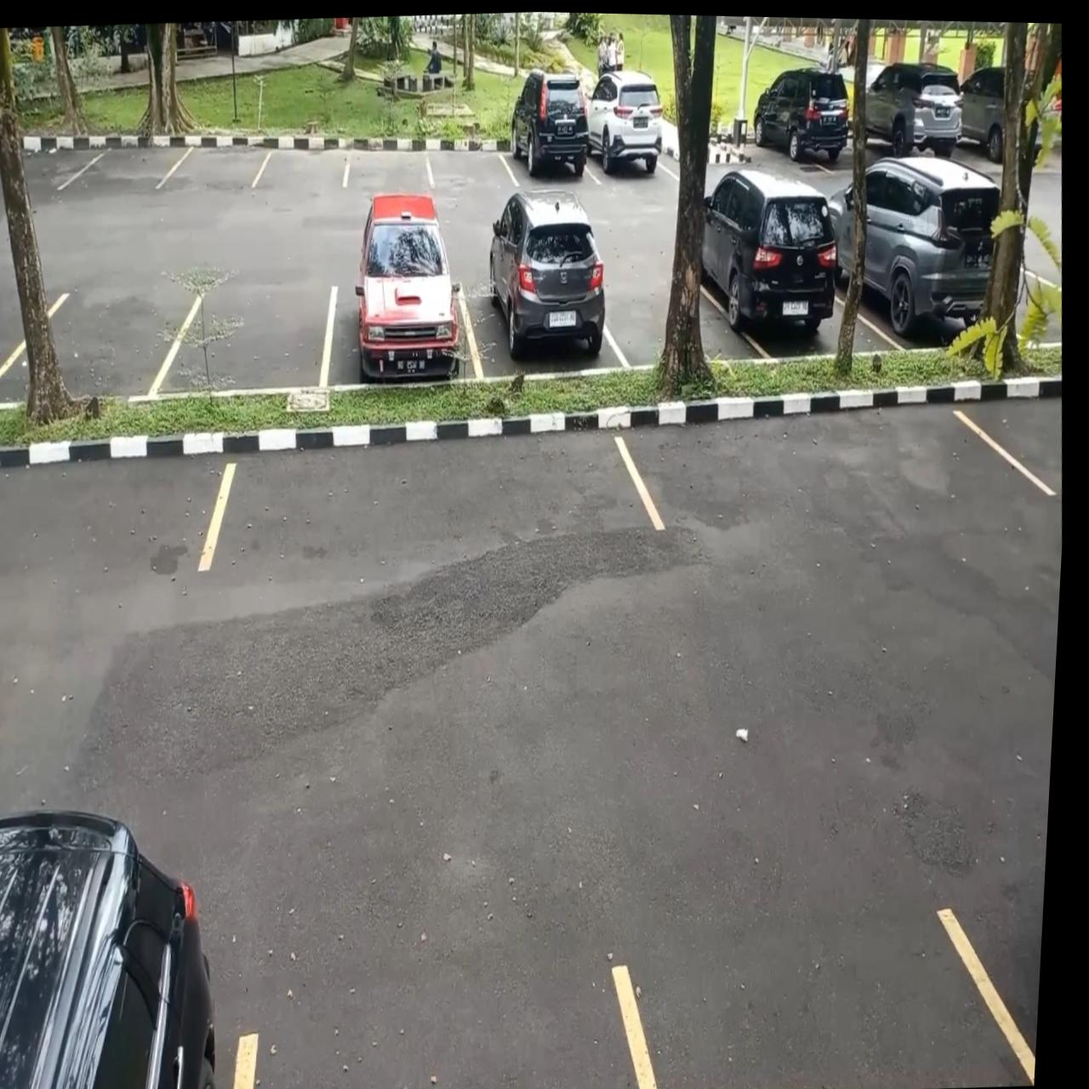cars: (689, 270, 909, 362), (463, 273, 615, 376), (329, 282, 473, 384)
empty: (609, 909, 1036, 1089), (198, 415, 666, 570), (607, 393, 1058, 535), (0, 292, 208, 408), (144, 293, 338, 401), (574, 274, 775, 372), (57, 142, 195, 189), (153, 142, 274, 189), (0, 145, 116, 191), (250, 144, 353, 189), (341, 143, 434, 188), (421, 147, 519, 189)
